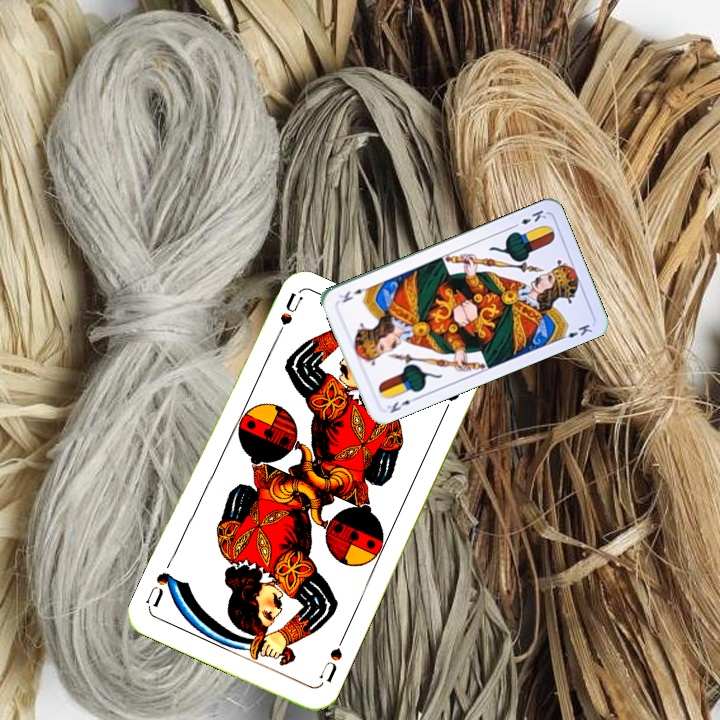EK: (509, 206, 549, 230), (383, 393, 420, 416)
SU: (268, 290, 304, 347), (315, 632, 348, 688)
